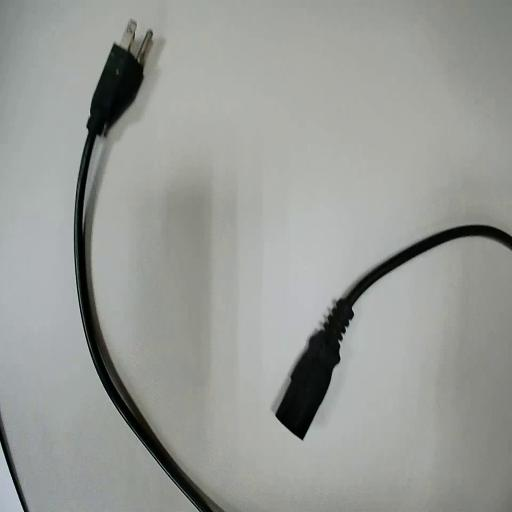wire: (76, 45, 212, 511), (276, 225, 511, 438)
